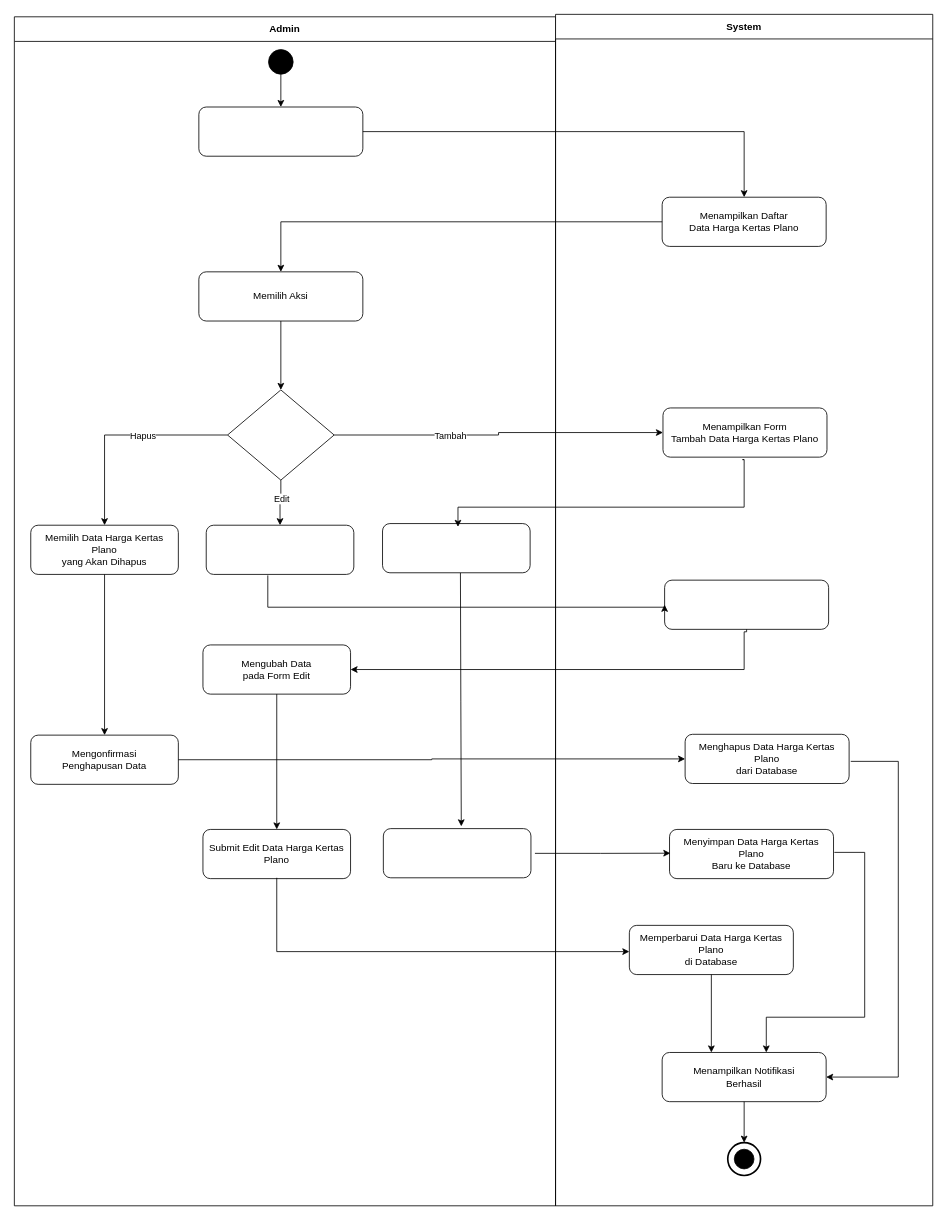
Some shapes in this 947 by 1220 pixel diagram are drawn without their labels. Here are the shapes that lost their labels. From the top down, the centre of each, then its label:
At [280,131]: "Mengakses Halaman Harga Kertas Plano Management".
At [280,434]: "Aksi?".
At [279,549]: "Memilih Data Harga Kertas Plano yang Akan Diedit".
At [456,548]: "Mengisi Form Tambah Data Harga Kertas Plano".
At [746,604]: "Menampilkan Form Edit Data Harga Kertas Plano".
At [457,853]: "Submit Tambah Data Harga Kertas Plano".
